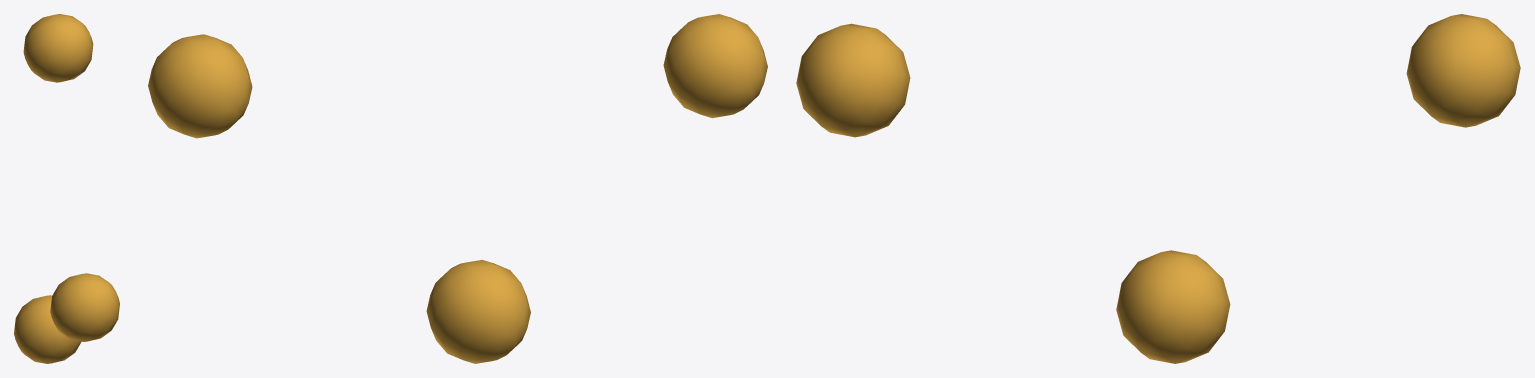
3 renders of one model, left to right at view 1: azimuth 30°, elevation 25°; view 2: azimuth 150°, elevation 25°; view 3: azimuth 270°, elevation 25°, orthographic. The views are drawn at different scales.
Parts seen in each view (by area): view 1: 右侧腮腺内淋巴结; view 2: 右侧腮腺内淋巴结; view 3: 右侧腮腺内淋巴结.
Part boxes in pixels (x1,y1,x2,y2): 右侧腮腺内淋巴结: (14, 14, 119, 363); 右侧腮腺内淋巴结: (148, 14, 767, 363); 右侧腮腺内淋巴结: (796, 14, 1520, 363).
Size of the model in its own units: 0.0139 by 0.0153 by 0.0241.
